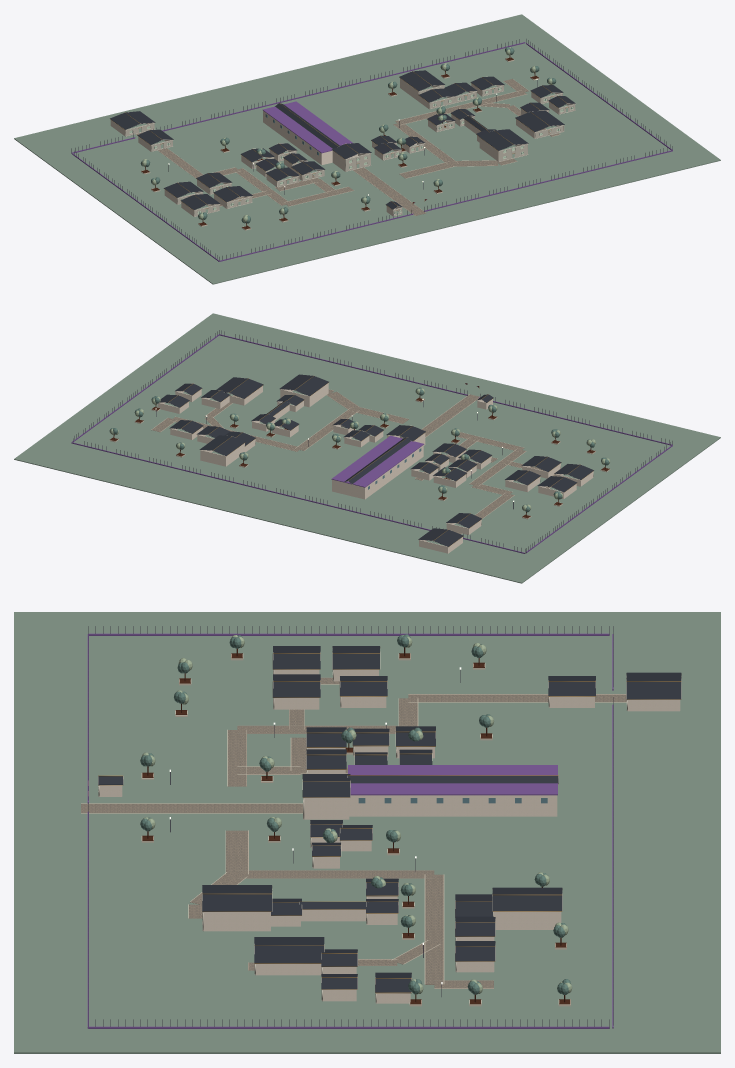
Rendered from finish_context.glb.
3 views of the same model, one above another, from view 1: azimuth 30°, elevation 25°; view 2: azimuth 150°, elevation 25°; view 3: azimuth 270°, elevation 25° (orthographic). The views are drawn at different scales.
Visible parts, largest first — view 1: boundary_base; view 2: boundary_base; view 3: boundary_base.
Part boxes in pixels (<box>): boundary_base: <box>14,14,720,284</box>; boundary_base: <box>14,313,720,583</box>; boundary_base: <box>14,612,720,1053</box>.
Bounding box in the file's own units: 280 × 8.62 × 190.
Materials: 17 (4 with a texture image).
